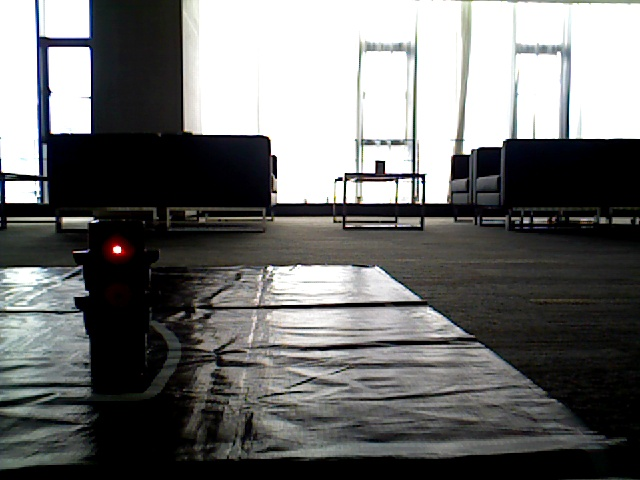red: (88, 227, 141, 347)
